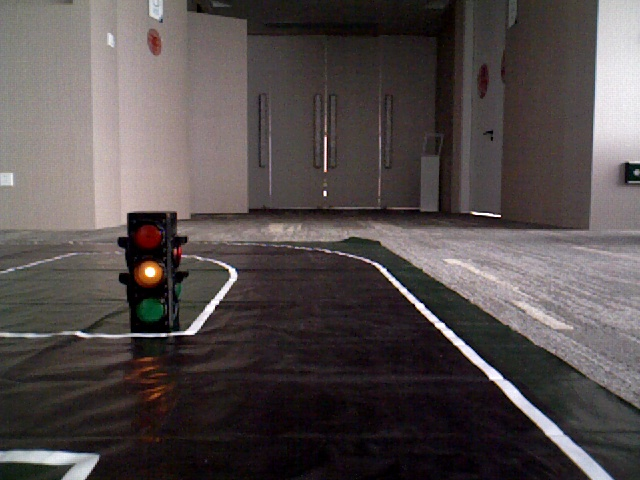yellow: (129, 216, 168, 324)
